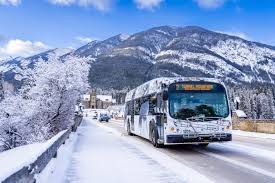bus: (123, 74, 233, 147)
